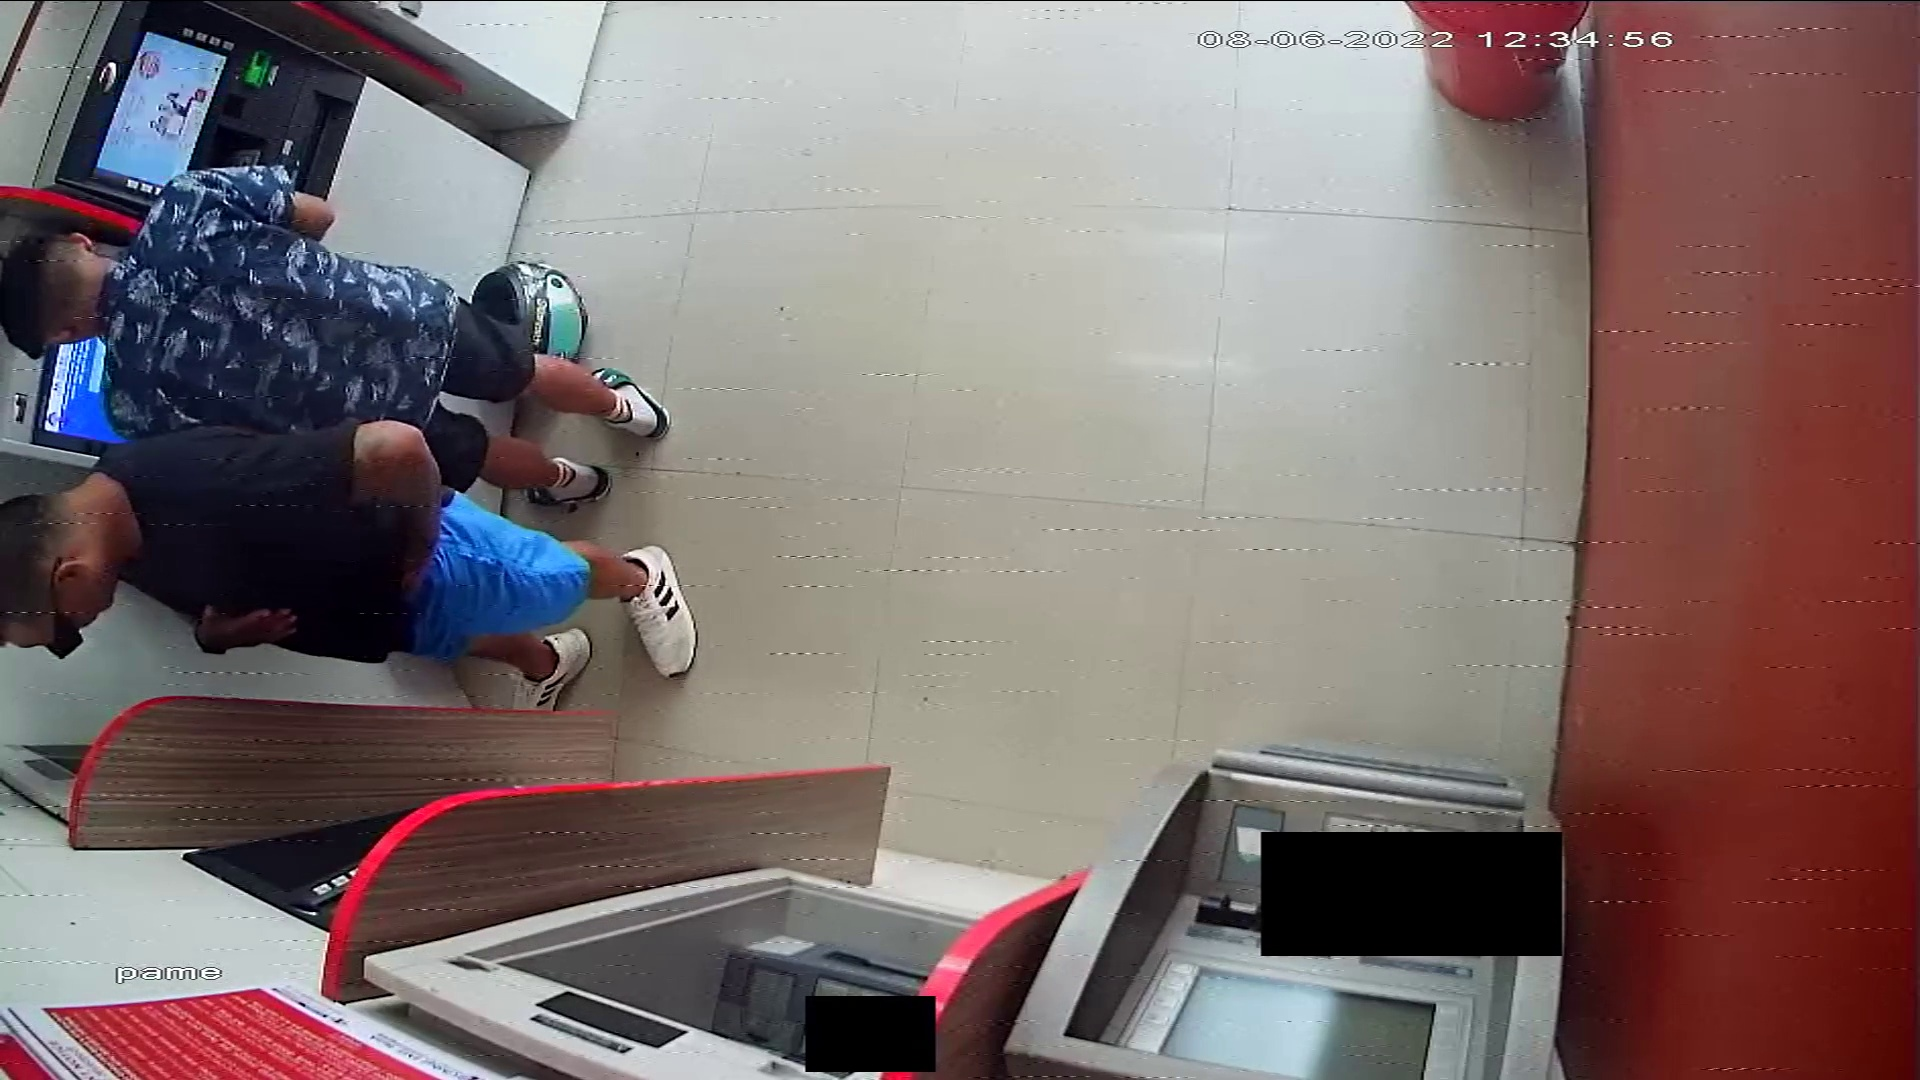helmet: (473, 262, 587, 364)
person: (1, 162, 673, 506), (1, 422, 695, 710)
